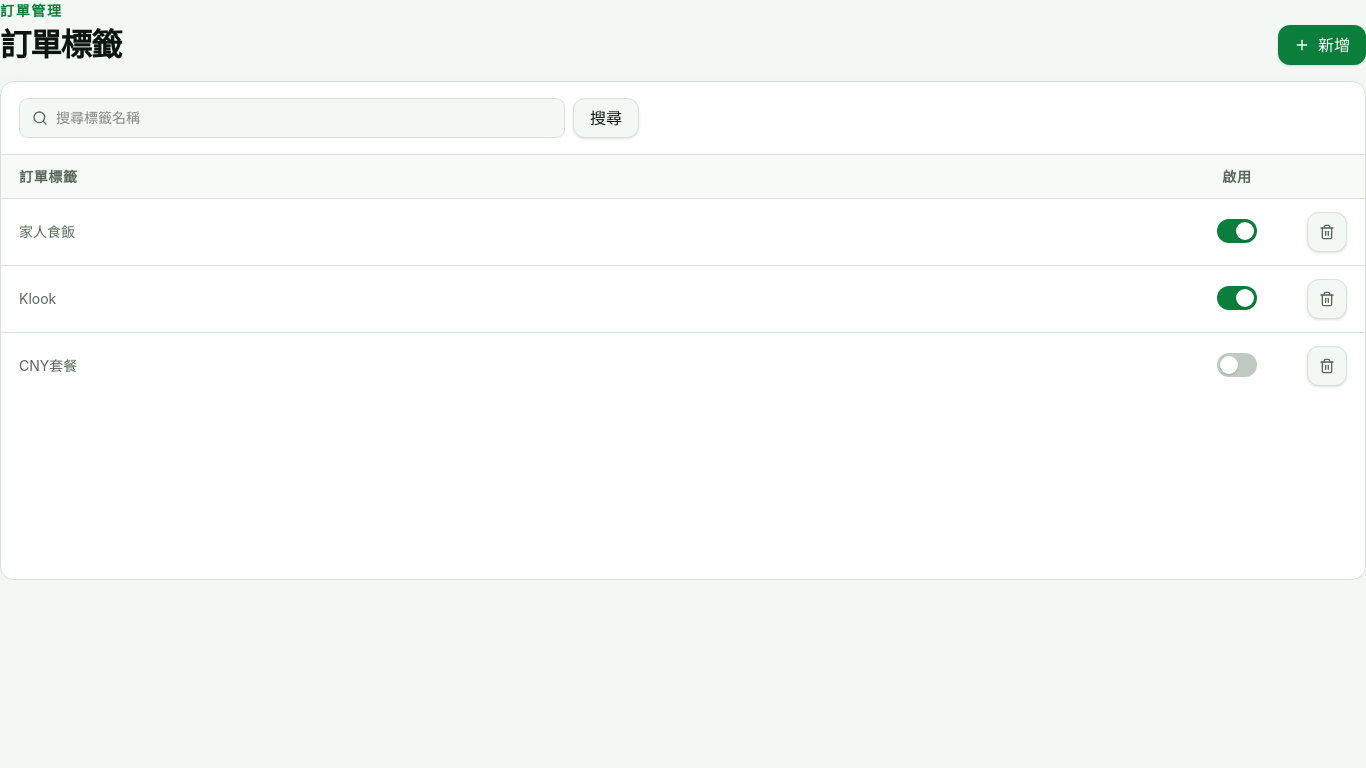
Test: Order settings tags page › creates a tag from the heading action
Expected: the text "家人食飯" is shown, left=1, top=198, right=1185, bottom=265
Click the button "新增": point(1322, 45) left=1278, top=25, right=1365, bottom=65
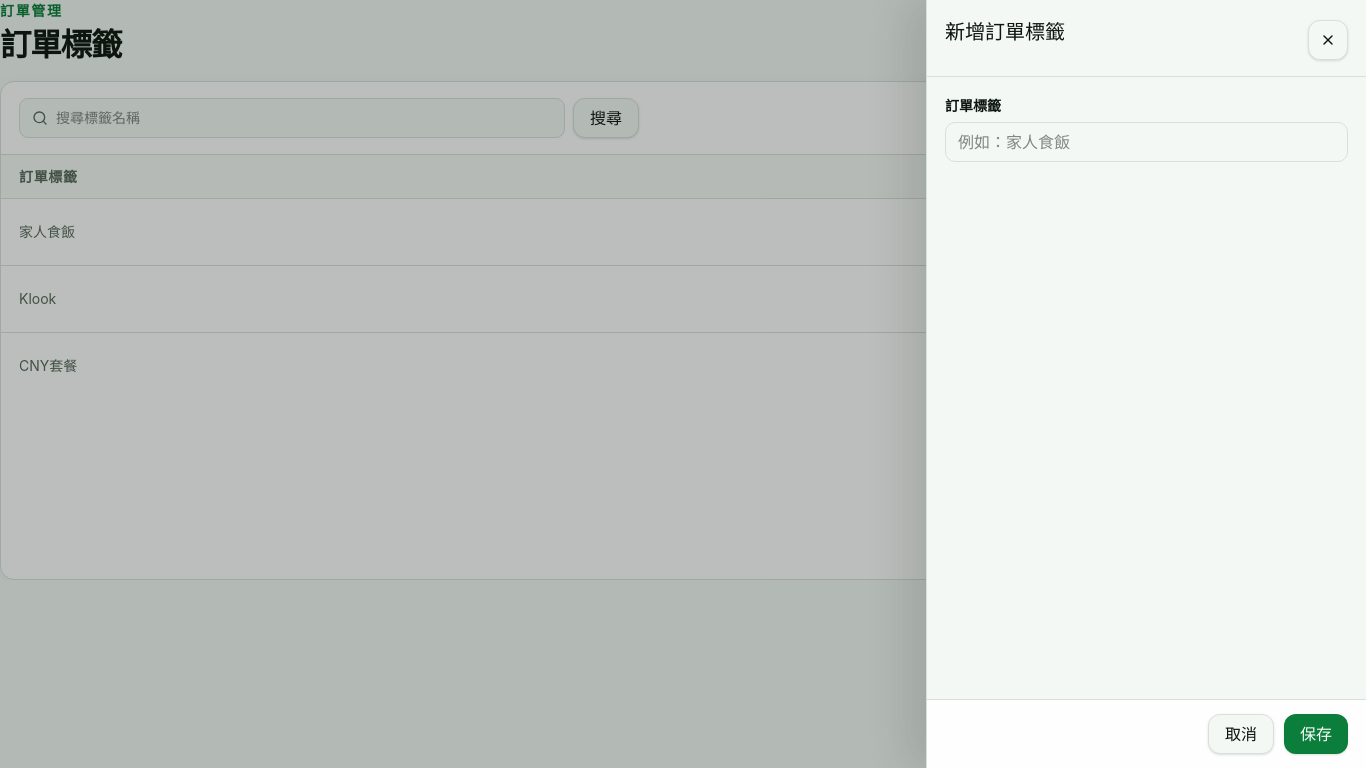
In the field labelled "訂單標籤": point(1146, 142) left=945, top=122, right=1348, bottom=162, type "商業活動"
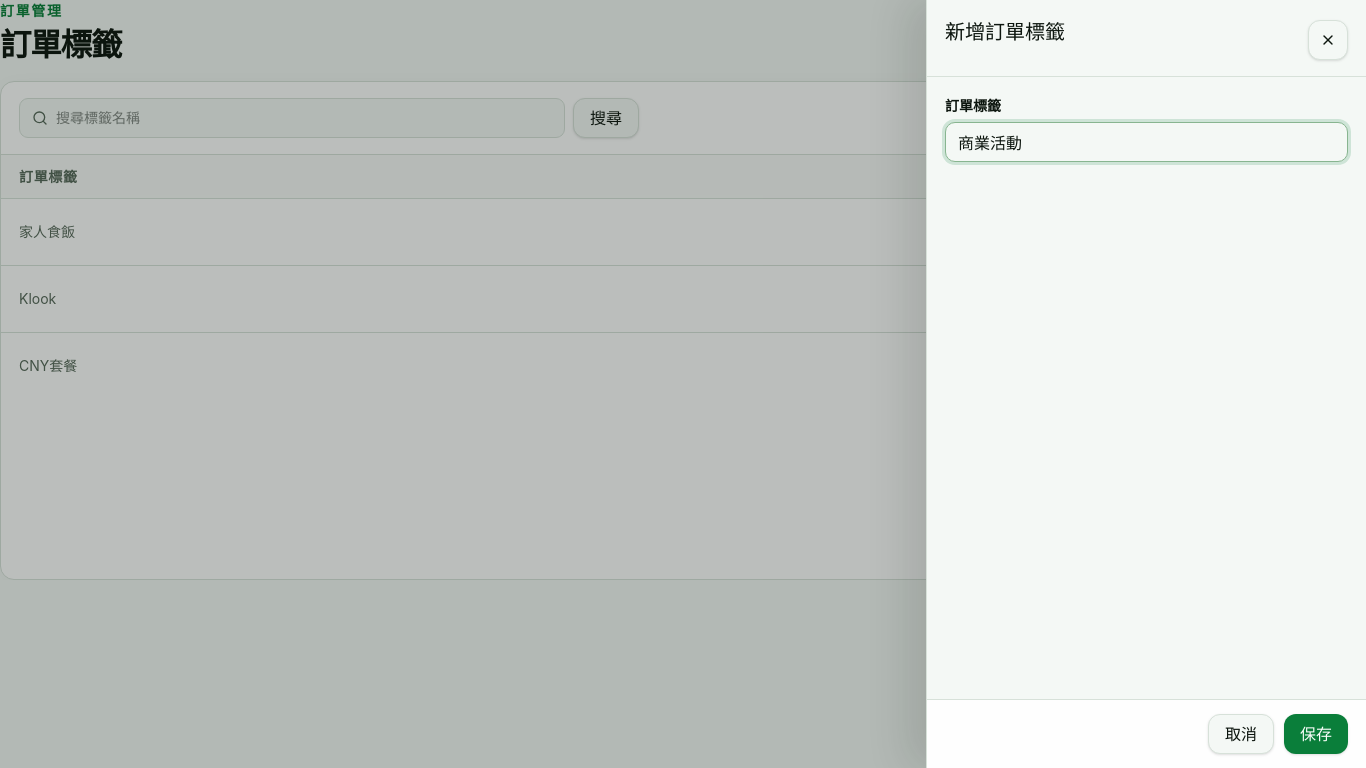
Click the button "保存": point(1316, 734) left=1284, top=714, right=1348, bottom=754
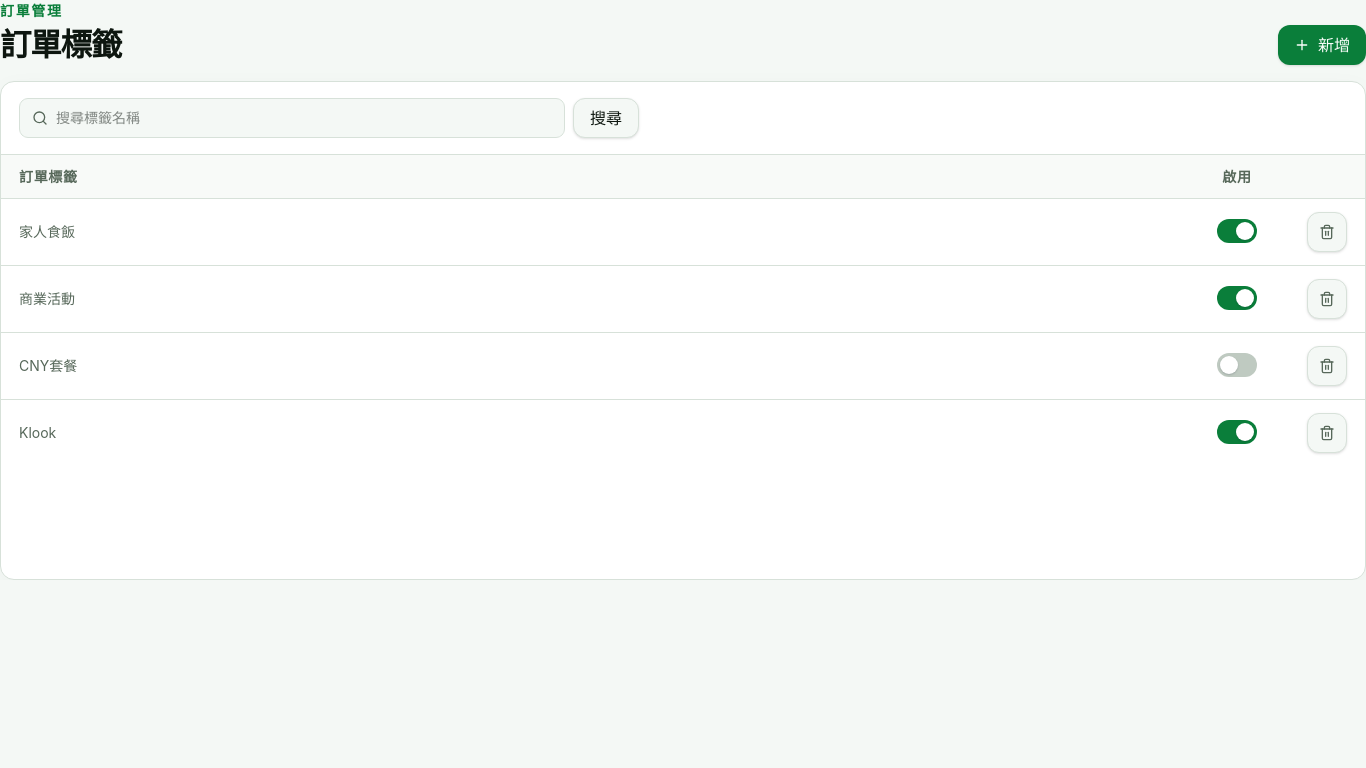
Now the text "商業活動" is shown, box left=1, top=265, right=1185, bottom=332
